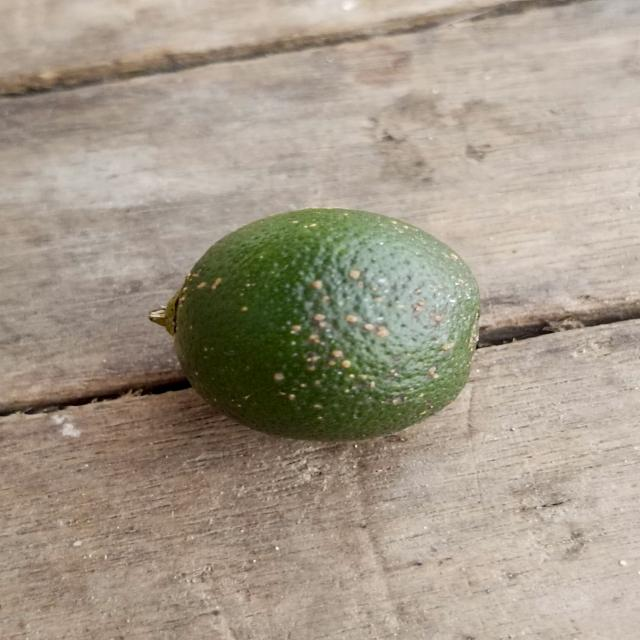scab: (176, 208, 492, 438)
